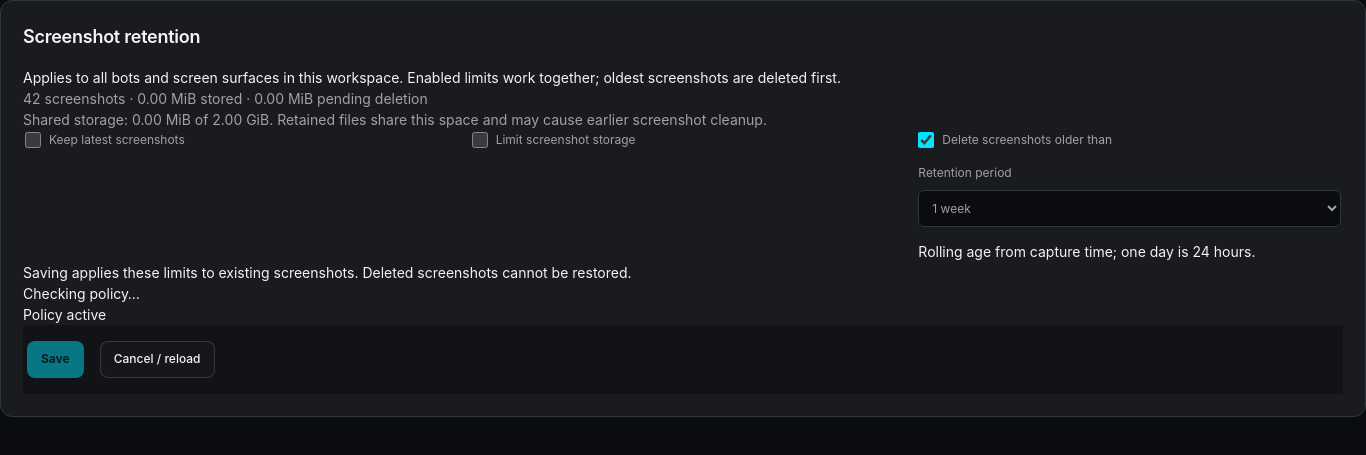
Test case: keeps an unsaved draft after a revision conflict
Click the checkbox labelled "Keep latest screenshots": (33, 140) [25,132,41,148]
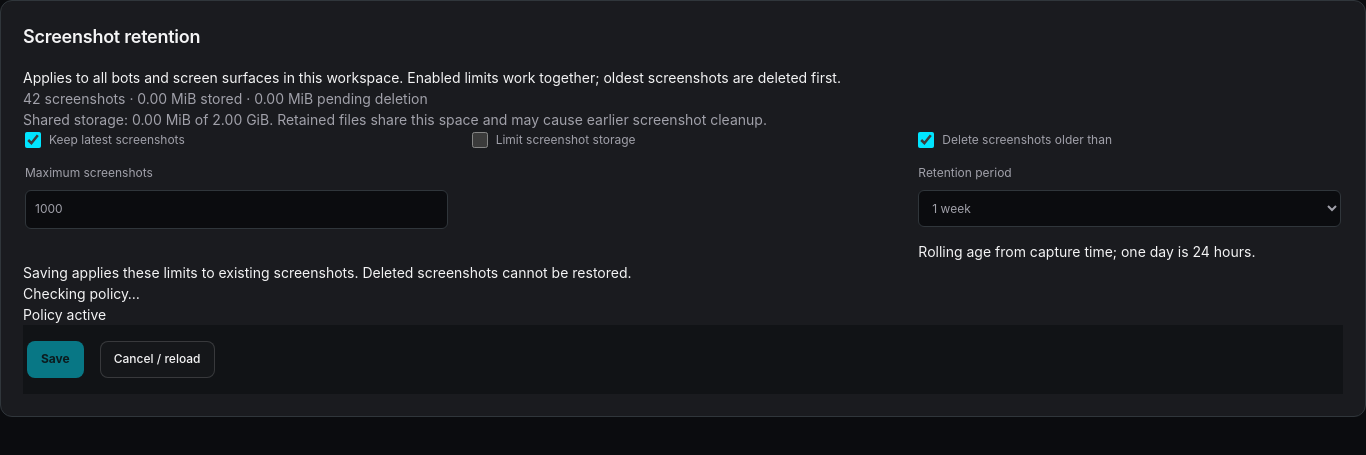
Replace the text in the number field labelled "Maximum screenshots" with "50": (236, 210) [25,190,448,229]
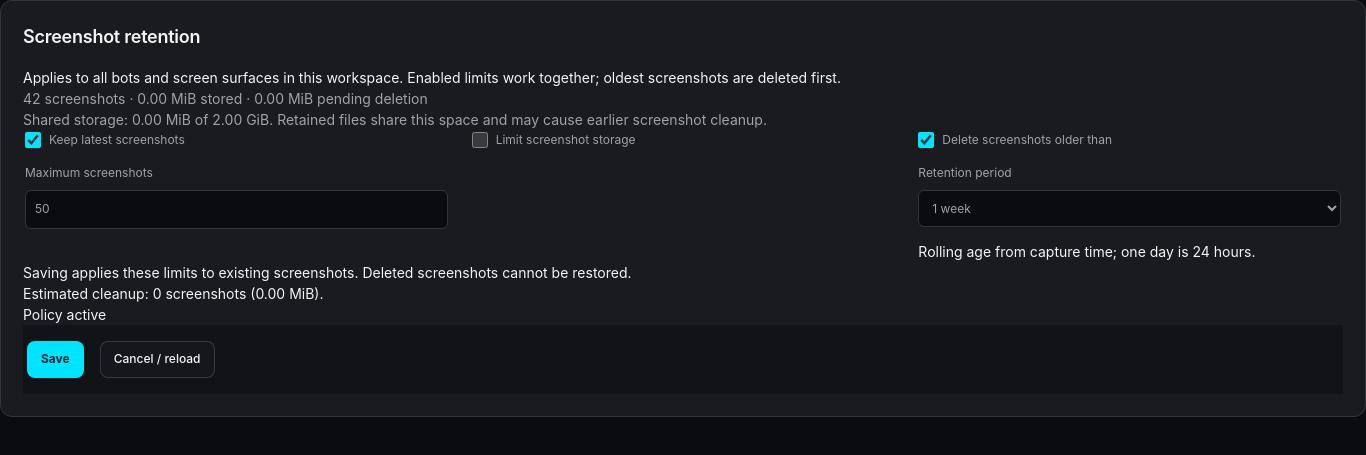
Expected: the button "Save" is enabled
Click the button "Save": (55, 360) [27,342,84,378]
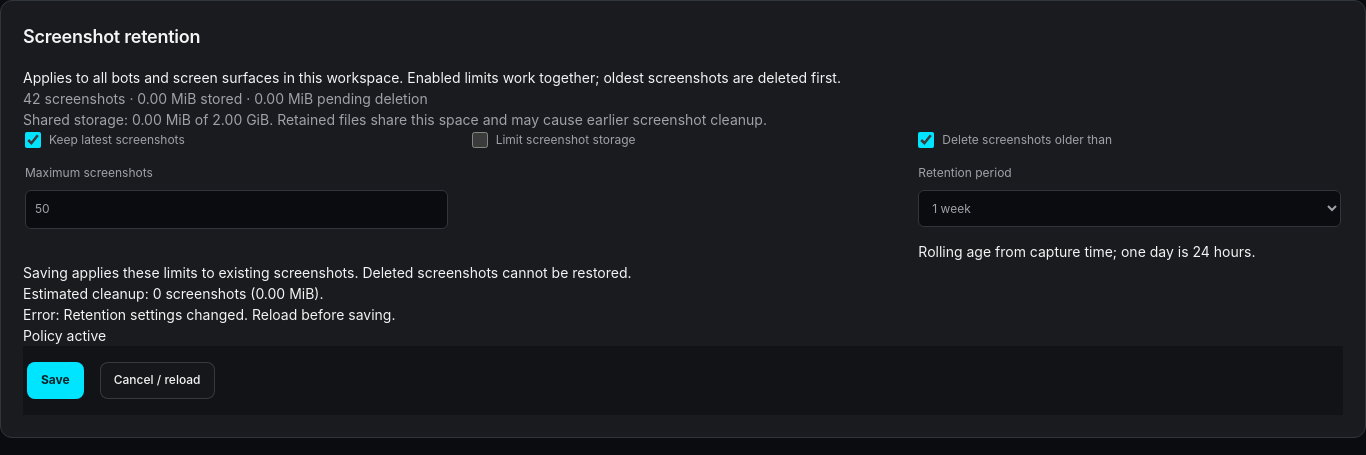
Expected: the message "Error: Retention settings changed. Reload before saving." is shown, [23,306,396,324]
